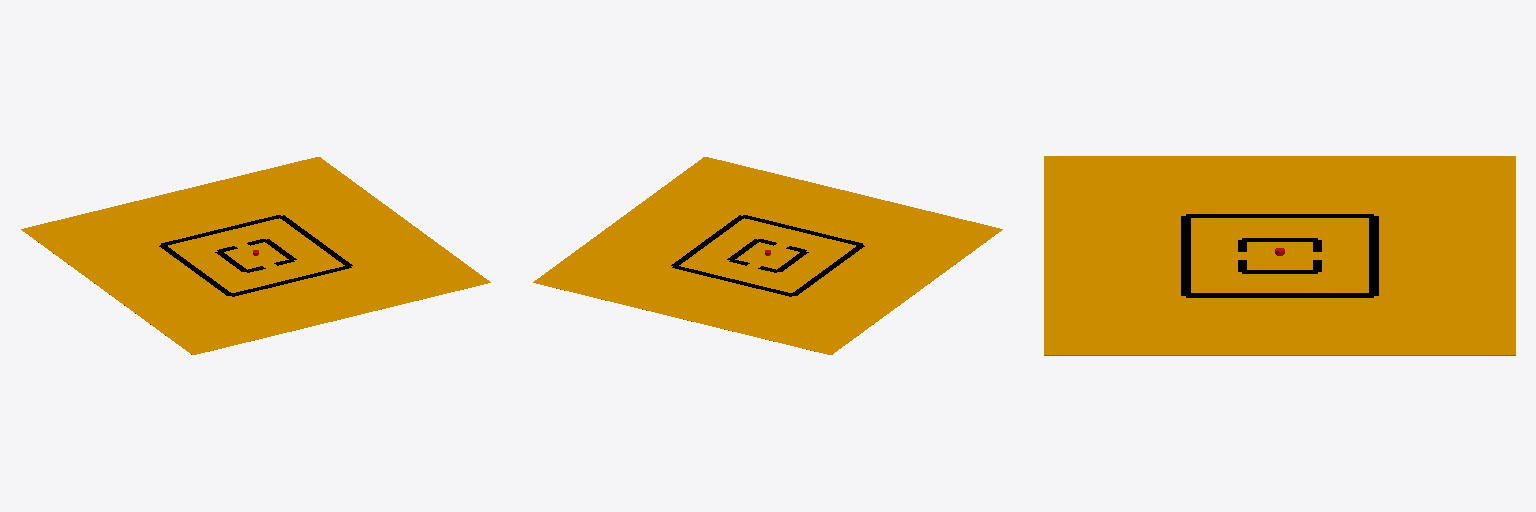
The robot description file, URDF, robot "maze":
<?xml version="1.0" ?>
<!-- =================================================================================== -->
<!-- |    This document was autogenerated by xacro from maze.urdf.xacro                | -->
<!-- |    EDITING THIS FILE BY HAND IS NOT RECOMMENDED                                 | -->
<!-- =================================================================================== -->
<robot name="maze">
  <material name="black">
    <color rgba="0 0 0 1"/>
  </material>
  <material name="red">
    <color rgba="0.8 0.1 0.1 1"/>
  </material>
  <material name="blue">
    <color rgba="0.1 0.1 0.9 1"/>
  </material>
  <material name="white">
    <color rgba="1 1 1 1"/>
  </material>
  <link name="base_link">
    <origin rpy="0.0 0.0 0.0" xyz="0 0 0.00"/>
    <visual>
      <geometry>
        <box size="5 5 0.001"/>
      </geometry>
    </visual>
  </link>
  <link name="obs_l1">
    <visual>
      <origin rpy="0.0 0.0 0.0" xyz="0.0 0.0 0.0"/>
      <geometry>
        <box size="0.1 0.8 0.01"/>
      </geometry>
      <material name="black"/>
    </visual>
    <collision>
      <origin rpy="0.0 0.0 0.0" xyz="0.0 0.0 0.0"/>
      <geometry>
        <box size="0.1 0.8 0.15"/>
      </geometry>
    </collision>
    <inertial>
      <mass value="10000"/>
      <inertia ixx="100" ixy="0" ixz="0" iyy="100" iyz="0" izz="100"/>
    </inertial>
  </link>
  <joint name="base_to_obs_l1" type="fixed">
    <parent link="base_link"/>
    <child link="obs_l1"/>
    <origin xyz="-0.4 0.0 0.0"/>
  </joint>
  <link name="obs_l2">
    <visual>
      <origin rpy="0.0 0.0 0.0" xyz="0.0 0.0 0.0"/>
      <geometry>
        <box size="0.3 0.1 0.01"/>
      </geometry>
      <material name="black"/>
    </visual>
    <collision>
      <origin rpy="0.0 0.0 0.0" xyz="0.0 0.0 0.0"/>
      <geometry>
        <box size="0.3 0.1 0.15"/>
      </geometry>
    </collision>
    <inertial>
      <mass value="10000"/>
      <inertia ixx="100" ixy="0" ixz="0" iyy="100" iyz="0" izz="100"/>
    </inertial>
  </link>
  <joint name="base_to_obs_l2" type="fixed">
    <parent link="base_link"/>
    <child link="obs_l2"/>
    <origin xyz="-0.25 0.4 0.0"/>
  </joint>
  <link name="obs_l3">
    <visual>
      <origin rpy="0.0 0.0 0.0" xyz="0.0 0.0 0.0"/>
      <geometry>
        <box size="0.3 0.1 0.01"/>
      </geometry>
      <material name="black"/>
    </visual>
    <collision>
      <origin rpy="0.0 0.0 0.0" xyz="0.0 0.0 0.0"/>
      <geometry>
        <box size="0.3 0.1 0.15"/>
      </geometry>
    </collision>
    <inertial>
      <mass value="10000"/>
      <inertia ixx="100" ixy="0" ixz="0" iyy="100" iyz="0" izz="100"/>
    </inertial>
  </link>
  <joint name="base_to_obs_l3" type="fixed">
    <parent link="base_link"/>
    <child link="obs_l3"/>
    <origin xyz="-0.25 -0.4 0.0"/>
  </joint>
  <link name="obs_r1">
    <visual>
      <origin rpy="0.0 0.0 0.0" xyz="0.0 0.0 0.0"/>
      <geometry>
        <box size="0.1 0.8 0.01"/>
      </geometry>
      <material name="black"/>
    </visual>
    <collision>
      <origin rpy="0.0 0.0 0.0" xyz="0.0 0.0 0.0"/>
      <geometry>
        <box size="0.1 0.8 0.15"/>
      </geometry>
    </collision>
    <inertial>
      <mass value="10000"/>
      <inertia ixx="100" ixy="0" ixz="0" iyy="100" iyz="0" izz="100"/>
    </inertial>
  </link>
  <joint name="base_to_obs_r1" type="fixed">
    <parent link="base_link"/>
    <child link="obs_r1"/>
    <origin xyz="0.4 0.0 0.0"/>
  </joint>
  <link name="obs_r2">
    <visual>
      <origin rpy="0.0 0.0 0.0" xyz="0.0 0.0 0.0"/>
      <geometry>
        <box size="0.3 0.1 0.01"/>
      </geometry>
      <material name="black"/>
    </visual>
    <collision>
      <origin rpy="0.0 0.0 0.0" xyz="0.0 0.0 0.0"/>
      <geometry>
        <box size="0.3 0.1 0.15"/>
      </geometry>
    </collision>
    <inertial>
      <mass value="10000"/>
      <inertia ixx="100" ixy="0" ixz="0" iyy="100" iyz="0" izz="100"/>
    </inertial>
  </link>
  <joint name="base_to_obs_r2" type="fixed">
    <parent link="base_link"/>
    <child link="obs_r2"/>
    <origin xyz="0.25 0.4 0.0"/>
  </joint>
  <link name="obs_r3">
    <visual>
      <origin rpy="0.0 0.0 0.0" xyz="0.0 0.0 0.0"/>
      <geometry>
        <box size="0.3 0.1 0.01"/>
      </geometry>
      <material name="black"/>
    </visual>
    <collision>
      <origin rpy="0.0 0.0 0.0" xyz="0.0 0.0 0.0"/>
      <geometry>
        <box size="0.3 0.1 0.15"/>
      </geometry>
    </collision>
    <inertial>
      <mass value="10000"/>
      <inertia ixx="100" ixy="0" ixz="0" iyy="100" iyz="0" izz="100"/>
    </inertial>
  </link>
  <joint name="base_to_obs_r3" type="fixed">
    <parent link="base_link"/>
    <child link="obs_r3"/>
    <origin xyz="0.25 -0.4 0.0"/>
  </joint>
  <!--   <xacro:obs name="t1" l="1.4" b="0.1" x="0.0" y="0.7"/>-->
  <!--   <xacro:obs name="t2" l="0.1" b="0.5" x="-0.7" y="${0.7-0.25}"/>-->
  <!--   <xacro:obs name="t3" l="0.1" b="0.5" x="0.7" y="${0.7-0.25}"/>-->
  <!--   <xacro:obs name="b1" l="1.4" b="0.1" x="0.0" y="-0.7"/>-->
  <!--   <xacro:obs name="b2" l="0.1" b="0.5" x="-0.7" y="${-0.7+0.25}"/>-->
  <!--   <xacro:obs name="b3" l="0.1" b="0.5" x="0.7" y="${-0.7+0.25}"/>-->
  <link name="obs_w1">
    <visual>
      <origin rpy="0.0 0.0 0.0" xyz="0.0 0.0 0.0"/>
      <geometry>
        <box size="2.0 0.1 0.01"/>
      </geometry>
      <material name="black"/>
    </visual>
    <collision>
      <origin rpy="0.0 0.0 0.0" xyz="0.0 0.0 0.0"/>
      <geometry>
        <box size="2.0 0.1 0.15"/>
      </geometry>
    </collision>
    <inertial>
      <mass value="10000"/>
      <inertia ixx="100" ixy="0" ixz="0" iyy="100" iyz="0" izz="100"/>
    </inertial>
  </link>
  <joint name="base_to_obs_w1" type="fixed">
    <parent link="base_link"/>
    <child link="obs_w1"/>
    <origin xyz="0 1.0 0.0"/>
  </joint>
  <link name="obs_w2">
    <visual>
      <origin rpy="0.0 0.0 0.0" xyz="0.0 0.0 0.0"/>
      <geometry>
        <box size="2.0 0.1 0.01"/>
      </geometry>
      <material name="black"/>
    </visual>
    <collision>
      <origin rpy="0.0 0.0 0.0" xyz="0.0 0.0 0.0"/>
      <geometry>
        <box size="2.0 0.1 0.15"/>
      </geometry>
    </collision>
    <inertial>
      <mass value="10000"/>
      <inertia ixx="100" ixy="0" ixz="0" iyy="100" iyz="0" izz="100"/>
    </inertial>
  </link>
  <joint name="base_to_obs_w2" type="fixed">
    <parent link="base_link"/>
    <child link="obs_w2"/>
    <origin xyz="0 -1.0 0.0"/>
  </joint>
  <link name="obs_w3">
    <visual>
      <origin rpy="0.0 0.0 0.0" xyz="0.0 0.0 0.0"/>
      <geometry>
        <box size="0.1 2.0 0.01"/>
      </geometry>
      <material name="black"/>
    </visual>
    <collision>
      <origin rpy="0.0 0.0 0.0" xyz="0.0 0.0 0.0"/>
      <geometry>
        <box size="0.1 2.0 0.15"/>
      </geometry>
    </collision>
    <inertial>
      <mass value="10000"/>
      <inertia ixx="100" ixy="0" ixz="0" iyy="100" iyz="0" izz="100"/>
    </inertial>
  </link>
  <joint name="base_to_obs_w3" type="fixed">
    <parent link="base_link"/>
    <child link="obs_w3"/>
    <origin xyz="-1.0 0.0 0.0"/>
  </joint>
  <link name="obs_w4">
    <visual>
      <origin rpy="0.0 0.0 0.0" xyz="0.0 0.0 0.0"/>
      <geometry>
        <box size="0.1 2.0 0.01"/>
      </geometry>
      <material name="black"/>
    </visual>
    <collision>
      <origin rpy="0.0 0.0 0.0" xyz="0.0 0.0 0.0"/>
      <geometry>
        <box size="0.1 2.0 0.15"/>
      </geometry>
    </collision>
    <inertial>
      <mass value="10000"/>
      <inertia ixx="100" ixy="0" ixz="0" iyy="100" iyz="0" izz="100"/>
    </inertial>
  </link>
  <joint name="base_to_obs_w4" type="fixed">
    <parent link="base_link"/>
    <child link="obs_w4"/>
    <origin xyz="1.0 0.0 0.0"/>
  </joint>
  <link name="bot_x">
    <origin rpy="0.0 0.0 0.0" xyz="0.0 0.0 0.0"/>
  </link>
  <link name="bot">
    <visual>
      <origin rpy="0.0 0.0 0.0" xyz="0 0 0.03"/>
      <geometry>
        <cylinder length="0.05" radius="0.05"/>
      </geometry>
      <material name="red"/>
    </visual>
    <collision>
      <origin rpy="0.0 0.0 0.0" xyz="0 0 0.03"/>
      <geometry>
        <cylinder length="0.05" radius="0.05"/>
      </geometry>
    </collision>
    <inertial>
      <origin rpy="0 0 0" xyz="0 0 0"/>
      <mass value="0.2"/>
    </inertial>
  </link>
  <joint name="base_to_bot_x" type="prismatic">
    <parent link="base_link"/>
    <child link="bot_x"/>
    <origin rpy="0 0 0" xyz="0 0 0.01"/>
    <axis xyz="1 0 0"/>
  </joint>
  <joint name="bot_x_to_bot" type="prismatic">
    <parent link="bot_x"/>
    <child link="bot"/>
    <origin rpy="0 0 0" xyz="0 0 0.01"/>
    <axis xyz="0 1 0"/>
  </joint>
</robot>

--- What the picture shows (computed from the rendered views, not written in the file) ---
Views: 3 orthographic renders of the robot side by side, from view 1: azimuth 30°, elevation 25°; view 2: azimuth 150°, elevation 25°; view 3: azimuth 270°, elevation 25°.
Robot: maze — 13 links, 12 joints (2 prismatic, 10 fixed); root link base_link; default pose: every joint at zero.
Links seen in each view (by area): view 1: base_link; view 2: base_link; view 3: base_link, obs_w4, obs_w1, obs_w2, obs_w3.
Boxes of the visible links, x1=… form: base_link: x1=21, y1=157, x2=490, y2=354; base_link: x1=533, y1=157, x2=1002, y2=354; base_link: x1=1044, y1=156, x2=1515, y2=355; obs_w4: x1=1186, y1=293, x2=1373, y2=297; obs_w1: x1=1369, y1=216, x2=1378, y2=295; obs_w2: x1=1181, y1=216, x2=1190, y2=295; obs_w3: x1=1186, y1=214, x2=1373, y2=217.
Size in the robot's own frame: 5 by 5 by 0.08 metres.
Geometry: primitives only (box / cylinder / sphere), no mesh files.